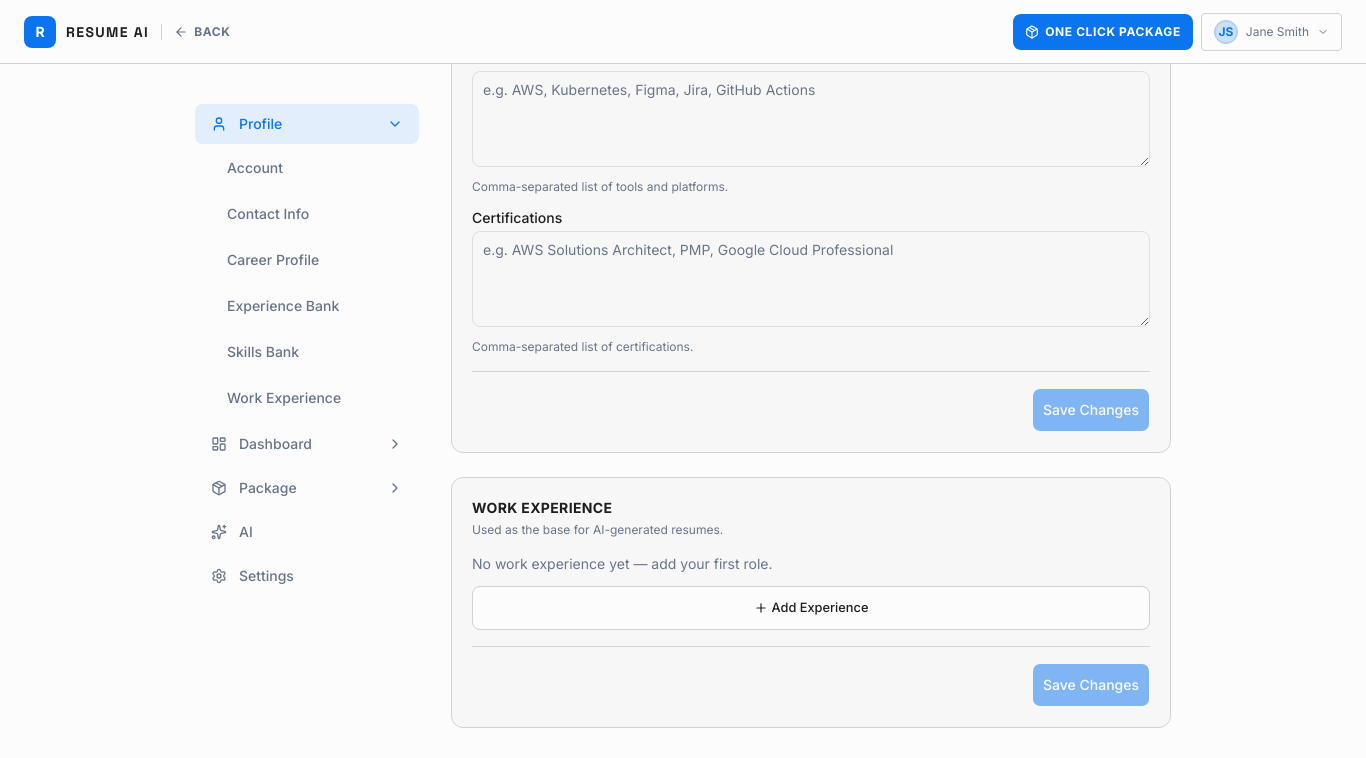
Test: Profile — Personal Info & Experience (loaded, empty) › adds a new experience entry when "Add Experience" is clicked
(page scrolled)
Check: the text "No work experience yet — add your first role." is shown, box [472,555,772,572]
Click the button "Add Experience".
click(811, 608)  # box [472,586,1150,630]
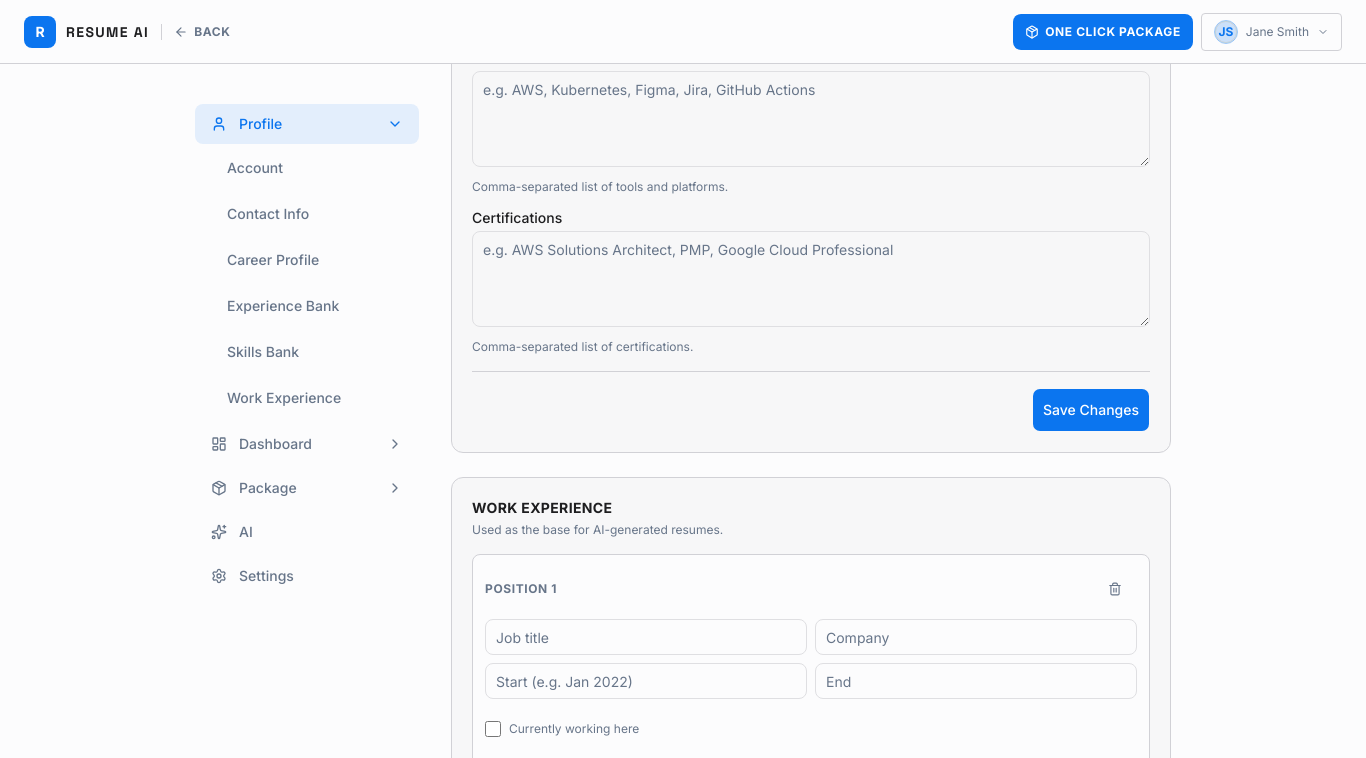
Check: the field with placeholder "Job title" is shown, box [485,619,807,655]
Check: the field with placeholder "Company" is shown, box [815,619,1137,655]
Check: the text "No work experience yet" is gone
